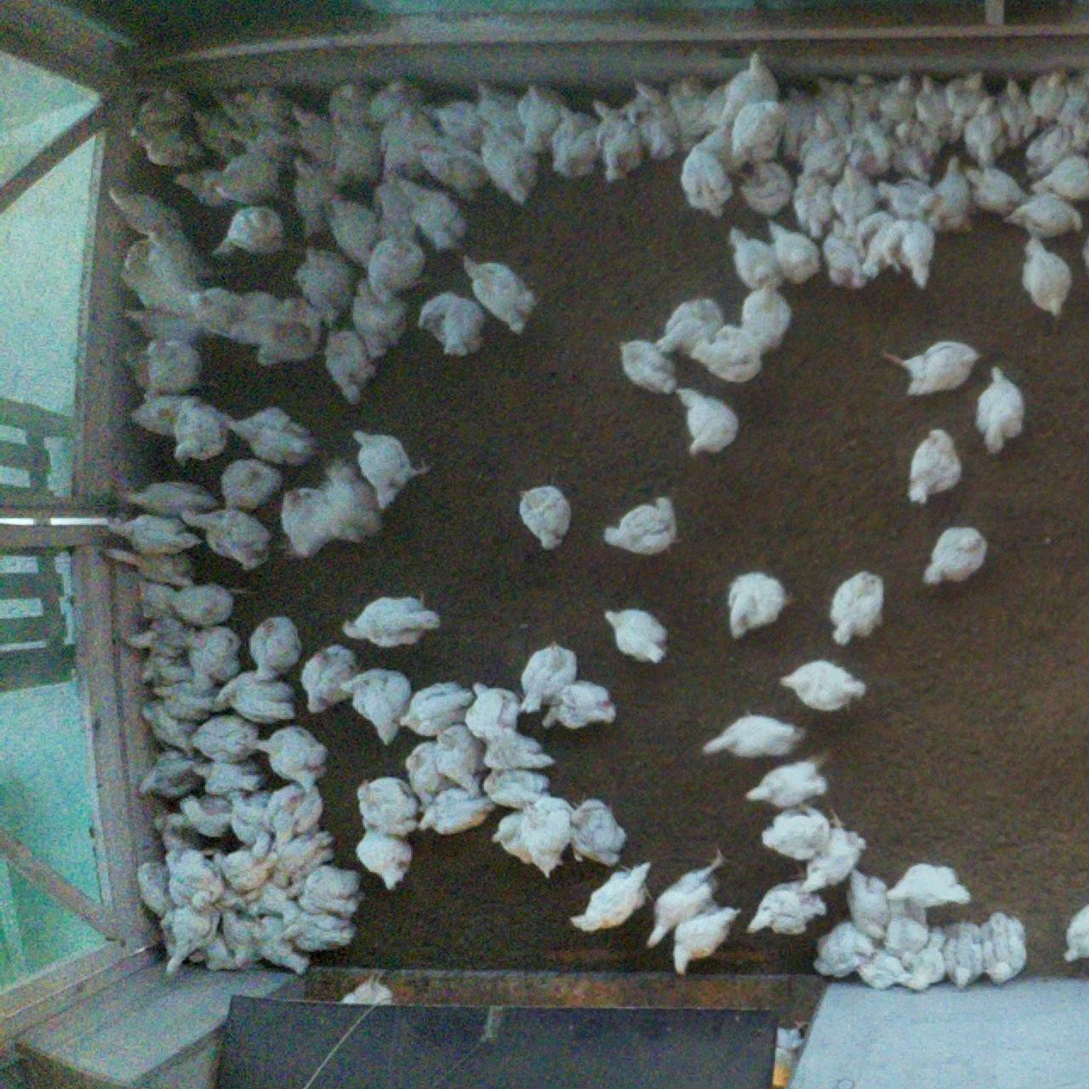chicken: (644, 847, 729, 949), (460, 252, 542, 334), (351, 429, 435, 509), (565, 860, 654, 934), (219, 406, 317, 470), (668, 899, 742, 983), (179, 506, 274, 571), (799, 807, 869, 895), (341, 587, 441, 647), (880, 341, 981, 399), (475, 119, 542, 205), (315, 462, 385, 544), (700, 709, 805, 763), (393, 176, 465, 253), (118, 238, 188, 317), (348, 275, 412, 361), (142, 219, 207, 301), (344, 668, 414, 744), (586, 98, 645, 186), (255, 295, 325, 369), (717, 49, 782, 128), (778, 658, 871, 713), (743, 752, 831, 810), (971, 364, 1025, 458), (689, 322, 772, 383), (103, 512, 203, 562), (252, 727, 330, 791), (212, 667, 298, 725), (725, 569, 792, 643), (292, 245, 351, 329), (601, 495, 680, 557), (825, 568, 887, 647), (673, 383, 740, 456), (414, 137, 489, 202), (623, 78, 681, 162), (745, 880, 828, 938), (324, 194, 384, 274), (907, 426, 966, 507), (520, 796, 575, 882), (550, 99, 607, 181), (516, 482, 579, 555), (116, 482, 225, 524), (171, 395, 231, 471), (520, 636, 577, 715), (356, 816, 416, 891), (281, 485, 339, 562), (1020, 233, 1073, 317), (202, 150, 284, 204), (661, 70, 715, 152), (101, 544, 195, 591), (418, 291, 488, 354), (267, 773, 325, 849), (160, 905, 222, 976), (658, 295, 729, 357), (325, 110, 379, 191), (760, 801, 834, 860), (922, 524, 991, 587), (567, 799, 628, 870), (322, 329, 378, 406), (286, 864, 367, 917), (930, 153, 982, 235), (367, 230, 427, 301), (213, 205, 289, 261), (880, 862, 972, 908), (1001, 191, 1085, 241), (401, 680, 472, 739), (419, 787, 497, 840), (292, 155, 340, 241), (893, 921, 951, 992), (828, 160, 880, 239), (381, 105, 435, 181), (540, 680, 618, 732), (305, 643, 362, 714), (141, 339, 206, 401), (266, 829, 334, 888), (480, 721, 557, 773), (167, 577, 247, 627), (979, 910, 1030, 988), (811, 919, 876, 980), (942, 64, 990, 146), (728, 227, 785, 296), (187, 713, 262, 765), (108, 185, 186, 235), (740, 283, 792, 358), (729, 101, 789, 166), (367, 173, 420, 246), (473, 78, 528, 148), (515, 81, 567, 155), (251, 910, 310, 975), (126, 85, 198, 138), (766, 211, 819, 283), (163, 846, 221, 911), (432, 725, 485, 796), (250, 613, 303, 684), (278, 909, 361, 954), (221, 792, 273, 862), (855, 211, 908, 279), (464, 680, 524, 740), (735, 158, 792, 221), (403, 740, 455, 809), (134, 746, 198, 802), (681, 145, 732, 215), (843, 868, 891, 942), (289, 98, 342, 165), (153, 678, 230, 724), (139, 700, 198, 760), (210, 835, 277, 887), (963, 95, 1007, 174), (995, 75, 1040, 152), (226, 120, 295, 170), (882, 898, 932, 967), (189, 623, 242, 688), (603, 610, 669, 662), (357, 779, 418, 835), (120, 306, 203, 346), (483, 764, 553, 811), (618, 339, 677, 394), (369, 75, 428, 130), (890, 116, 937, 185), (820, 226, 869, 292), (777, 84, 819, 161), (222, 460, 283, 513), (171, 163, 235, 213), (125, 614, 201, 656), (940, 918, 984, 989), (131, 127, 207, 168), (874, 175, 944, 219), (791, 168, 835, 238), (129, 393, 193, 441), (963, 165, 1022, 217), (235, 82, 293, 134), (1025, 156, 1089, 203), (188, 287, 245, 339), (229, 289, 279, 348), (220, 904, 265, 969), (241, 880, 299, 930), (134, 856, 181, 917), (846, 116, 892, 178), (323, 80, 381, 129), (166, 795, 232, 838), (689, 123, 744, 174), (799, 115, 842, 180), (1024, 125, 1073, 182), (898, 218, 937, 289), (690, 78, 736, 138), (430, 97, 485, 147), (812, 75, 854, 140), (190, 758, 261, 796), (766, 1014, 811, 1072), (189, 105, 236, 160), (914, 72, 952, 140), (878, 70, 920, 131), (855, 946, 912, 990), (185, 927, 240, 971), (844, 68, 885, 127), (1030, 67, 1067, 132), (492, 811, 536, 865), (150, 807, 199, 854), (136, 648, 193, 688), (132, 579, 180, 623), (211, 85, 255, 132), (119, 346, 157, 397), (1058, 94, 1089, 155), (1060, 902, 1089, 964), (212, 882, 261, 917), (1056, 67, 1089, 114), (154, 909, 179, 960)
